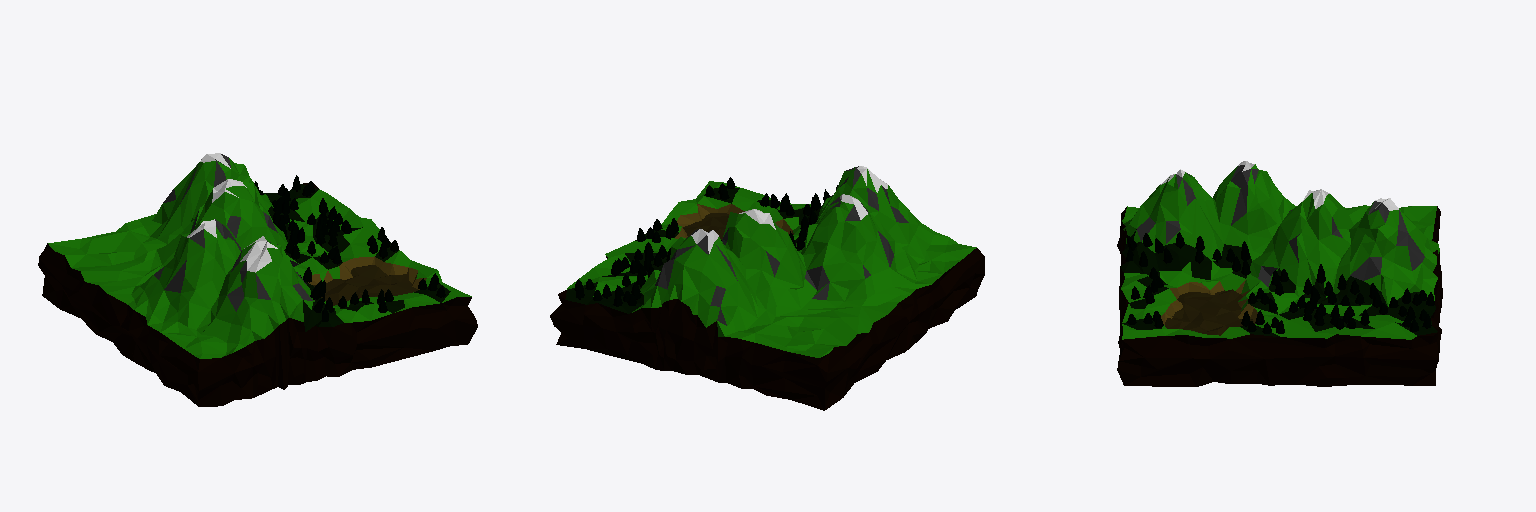
The model's file is mountains2xd.obj.
The picture shows the model from 3 angles: view 1: azimuth 30°, elevation 25°; view 2: azimuth 150°, elevation 25°; view 3: azimuth 270°, elevation 25°; orthographic projection.
Parts seen in each view (by area): view 1: Plane.006, Plane.005; view 2: Plane.006, Plane.005; view 3: Plane.006, Plane.005.
Boxes of the visible parts, box(x1,y1,x2,y2) form: Plane.006: box(38, 153, 477, 406); Plane.005: box(313, 265, 417, 305); Plane.006: box(550, 166, 984, 410); Plane.005: box(683, 213, 728, 239); Plane.006: box(1117, 161, 1442, 386); Plane.005: box(1165, 289, 1253, 335).
Size of the model in its own units: 107 by 46.94 by 107.